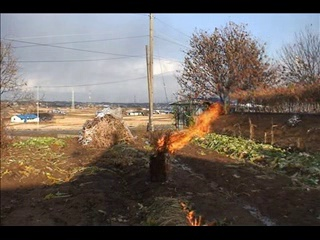fire: (154, 100, 221, 154), (179, 196, 205, 226)
